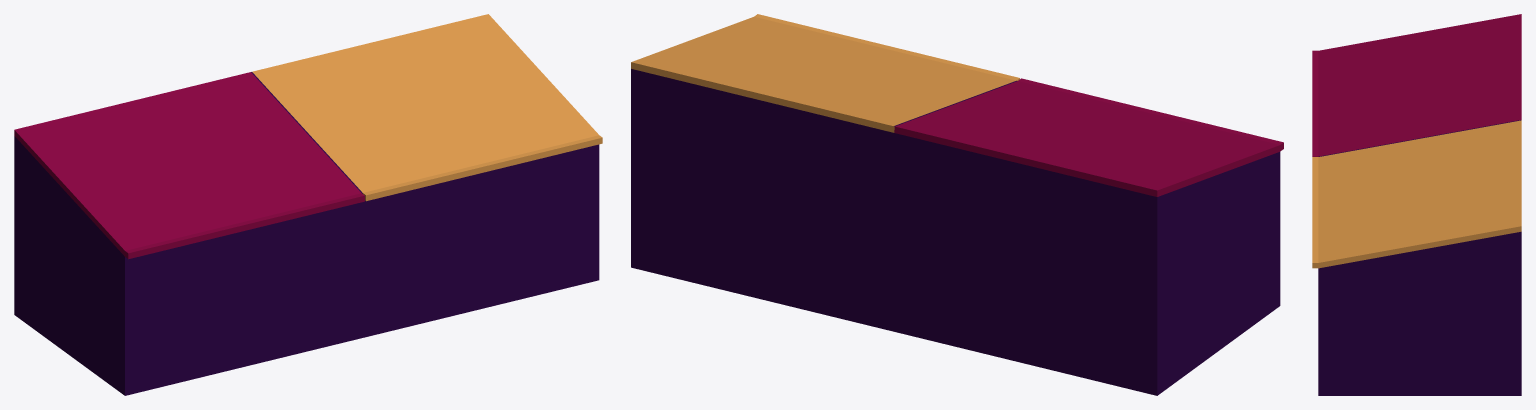
Rendered from FinalBin.fbx.
3 renders of one model, left to right at view 1: azimuth 30°, elevation 25°; view 2: azimuth 150°, elevation 25°; view 3: azimuth 270°, elevation 25°, orthographic. The views are drawn at different scales.
Visible parts, largest first — view 1: Bin_2_sq1; view 2: Bin_2_sq1; view 3: Bin_2_sq1.
Part boxes in pixels (x1,y1,x2,y2): Bin_2_sq1: [14, 14, 602, 395]; Bin_2_sq1: [631, 14, 1283, 395]; Bin_2_sq1: [1312, 14, 1521, 395].
Size of the model in its own units: 1.71 by 0.6383 by 0.7131.
